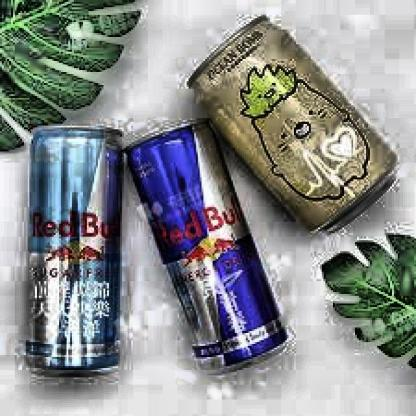Can: (181, 10, 403, 242), (118, 109, 294, 387), (20, 122, 128, 387)
